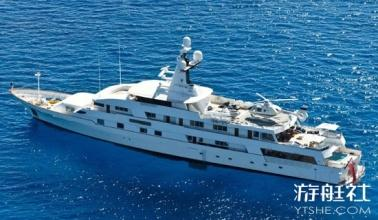yacht: (1, 32, 360, 186)
